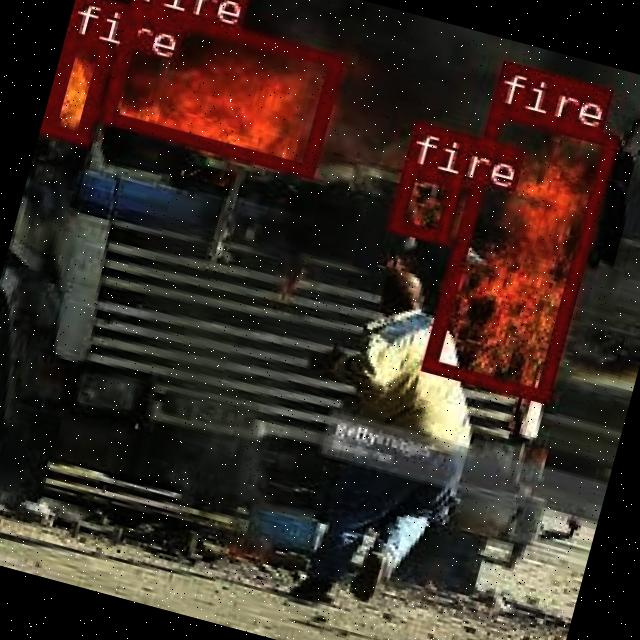fire: (420, 101, 615, 399), (97, 0, 341, 174), (40, 31, 110, 142), (386, 162, 459, 240)
